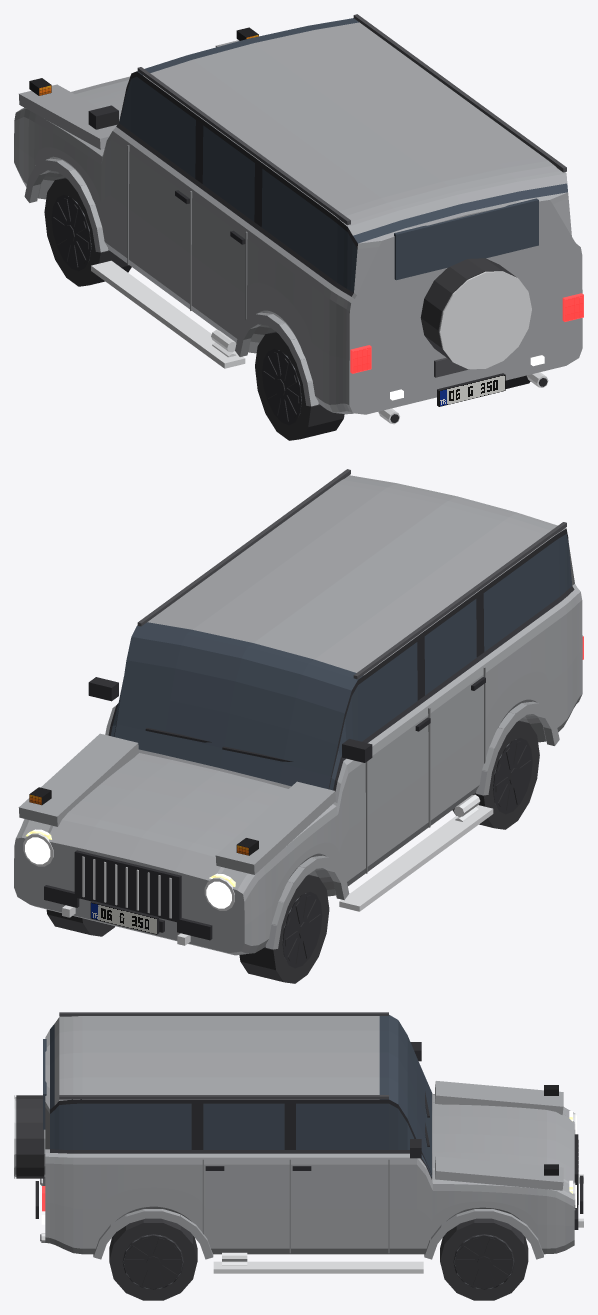
Rendered from bastion.glb.
3 renders of one model, top to bottom at view 1: azimuth 30°, elevation 25°; view 2: azimuth 150°, elevation 25°; view 3: azimuth 270°, elevation 25°, orthographic. The views are drawn at different scales.
Visible parts, largest first — view 1: body.015, wheel_RL.015, wheel_FL.015; view 2: body.015, wheel_FL.015, wheel_RL.015, wheel_FR.015; view 3: body.015, wheel_RR.015, wheel_FR.015.
Boxes of the visible parts, x1=… form: body.015: x1=14, y1=14, x2=583, y2=424; wheel_RL.015: x1=255, y1=331, x2=344, y2=440; wheel_FL.015: x1=44, y1=177, x2=131, y2=286; body.015: x1=14, y1=469, x2=583, y2=955; wheel_FL.015: x1=239, y1=874, x2=329, y2=983; wheel_RL.015: x1=452, y1=720, x2=539, y2=829; wheel_FR.015: x1=46, y1=909, x2=114, y2=936; body.015: x1=14, y1=1012, x2=583, y2=1273; wheel_RR.015: x1=109, y1=1218, x2=197, y2=1300; wheel_FR.015: x1=440, y1=1218, x2=528, y2=1300.
Size of the model in its own units: 2.16 by 1.94 by 4.91.
Materials: 15 (5 with a texture image).
